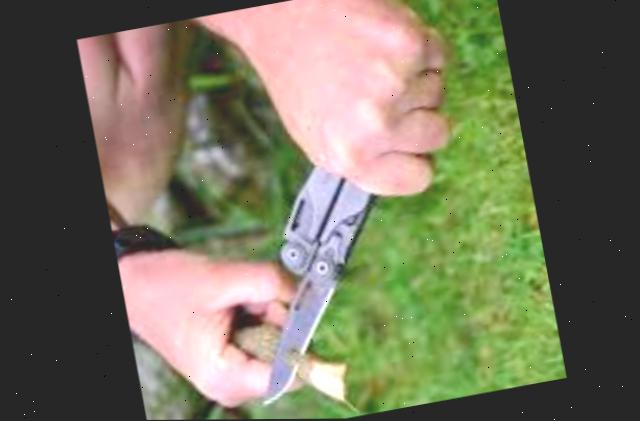pocket-knife: (211, 93, 401, 417)
